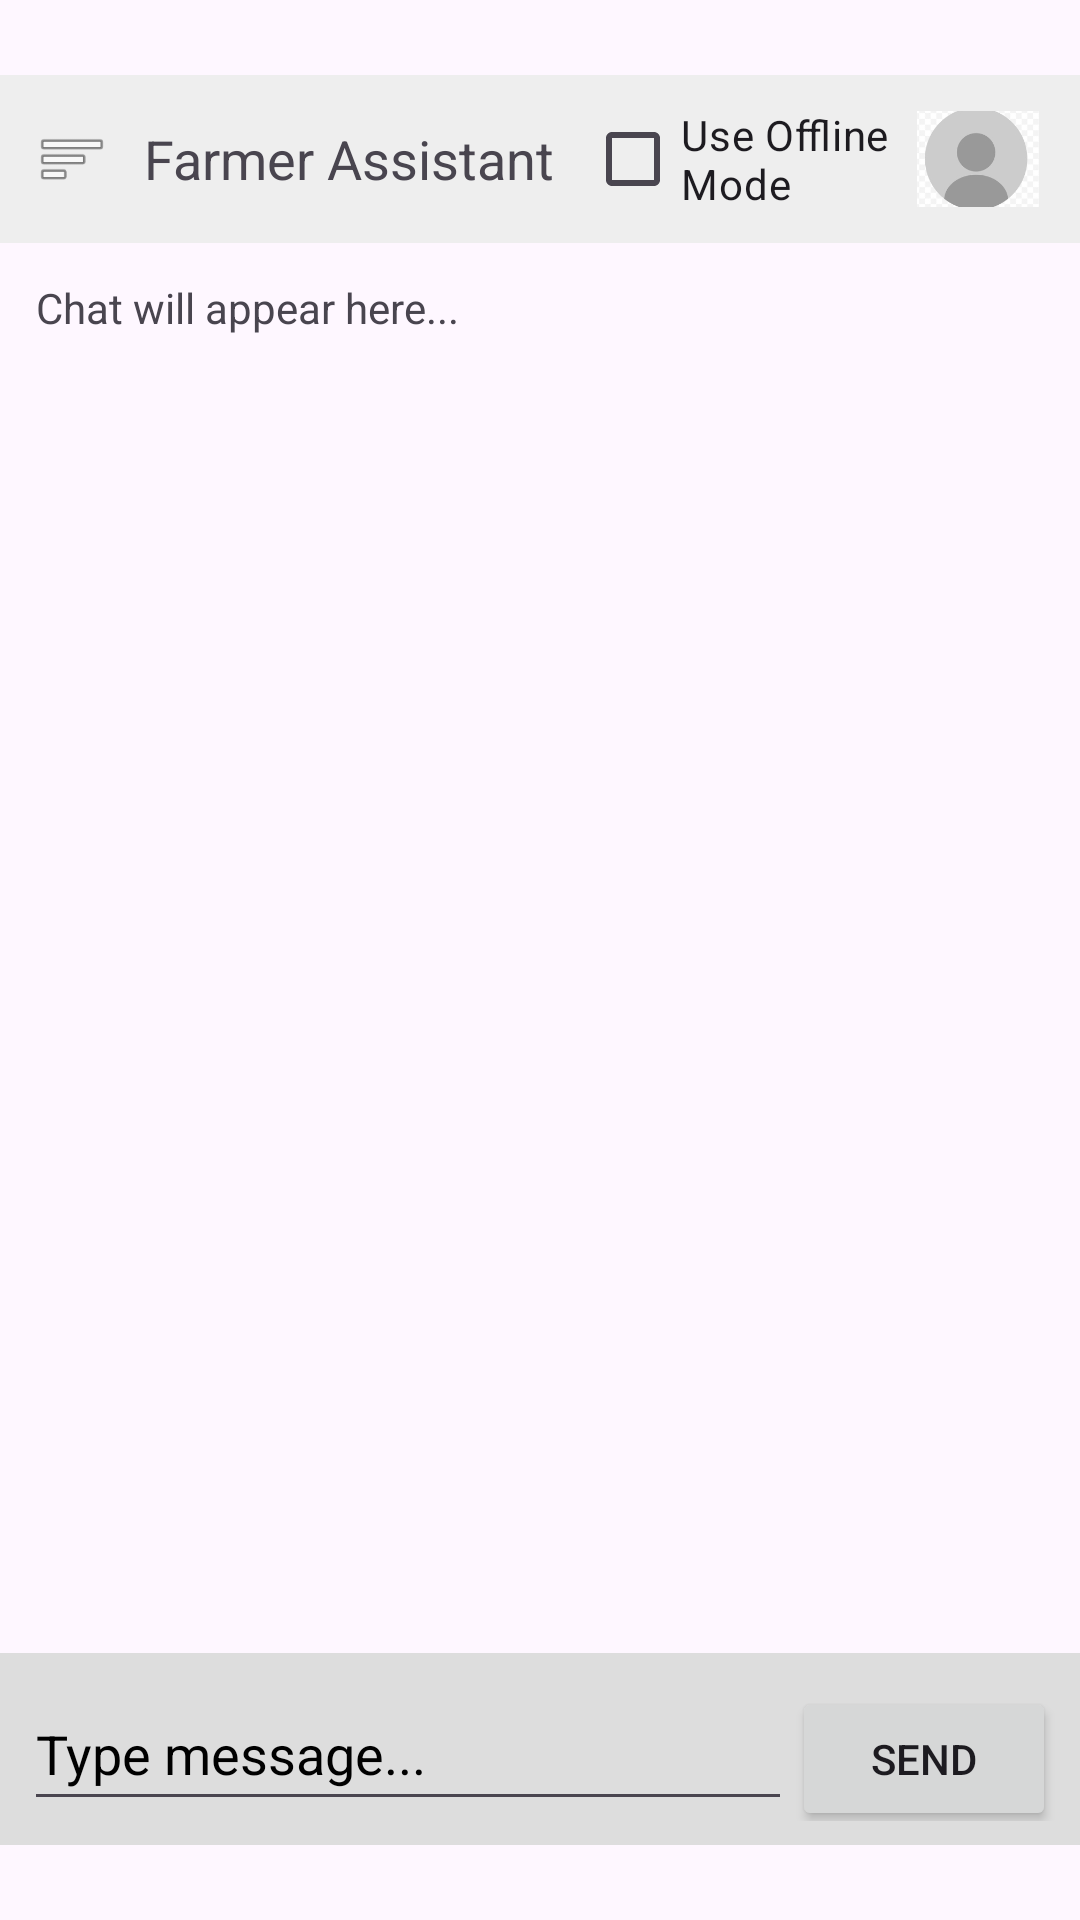

Named icons in this screenshot (1080x1920) and their centers, [x,y]:
profile: [976,159]
sort by size: [72,159]
